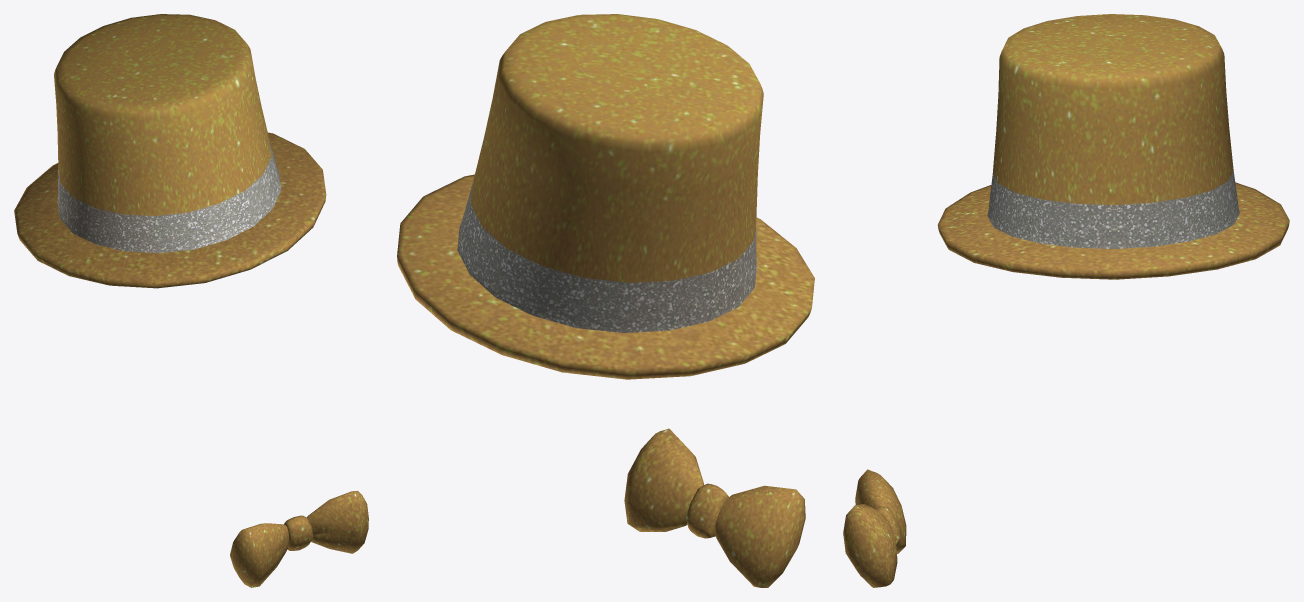
Rendered from pm0163_00_Rig.fbx.
The picture shows the model from 3 angles, left to right: view 1: azimuth 30°, elevation 25°; view 2: azimuth 150°, elevation 25°; view 3: azimuth 270°, elevation 25°; orthographic projection. The views are drawn at different scales.
Visible parts, largest first — view 1: doodad_jan_2022_hat, doodad_jan_2022_bow; view 2: doodad_jan_2022_hat, doodad_jan_2022_bow; view 3: doodad_jan_2022_hat, doodad_jan_2022_bow.
Part boxes in pixels (x1=…): doodad_jan_2022_hat: x1=14, y1=14, x2=326, y2=288; doodad_jan_2022_bow: x1=230, y1=491, x2=368, y2=587; doodad_jan_2022_hat: x1=397, y1=14, x2=814, y2=379; doodad_jan_2022_bow: x1=624, y1=428, x2=805, y2=587; doodad_jan_2022_hat: x1=937, y1=14, x2=1289, y2=279; doodad_jan_2022_bow: x1=843, y1=469, x2=906, y2=587.
Size of the model in its own units: 0.4057 by 0.6648 by 0.5166.
